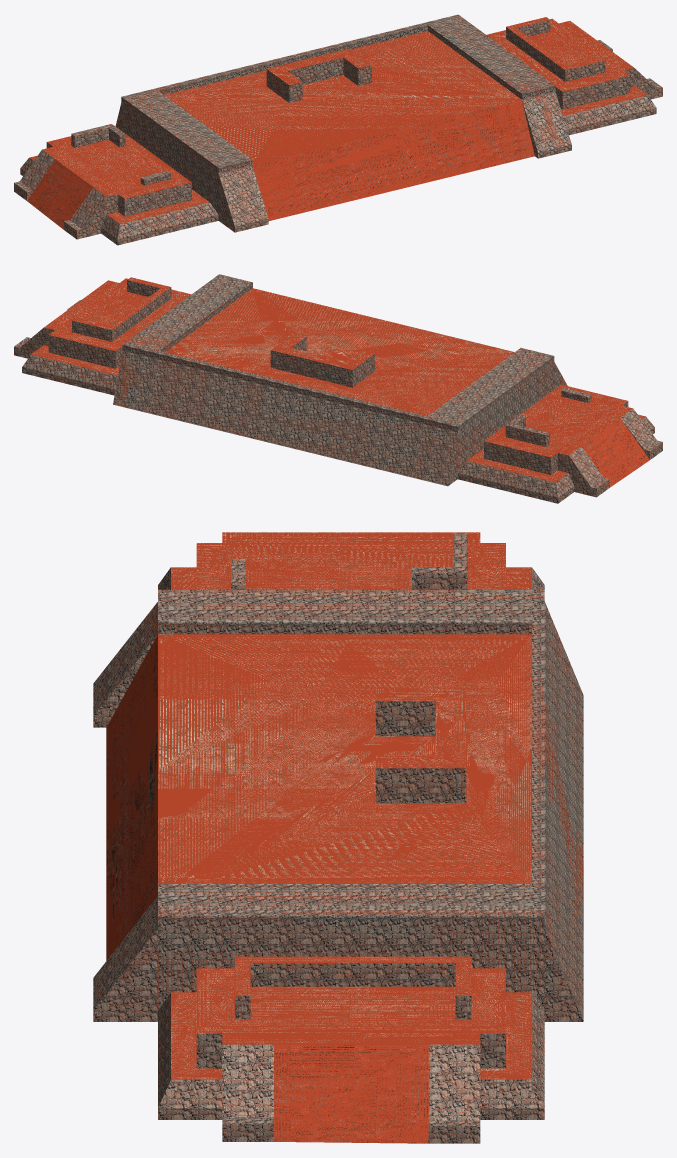
Rendered from edificioCentral.obj.
The picture shows the model from 3 angles, top to bottom: view 1: azimuth 30°, elevation 25°; view 2: azimuth 150°, elevation 25°; view 3: azimuth 270°, elevation 25°; orthographic projection. The views are drawn at different scales.
Parts seen in each view (by area): view 1: Mesh1 Model; view 2: Mesh1 Model; view 3: Mesh1 Model.
Part boxes in pixels (x1=…): Mesh1 Model: x1=14, y1=14, x2=662, y2=245; Mesh1 Model: x1=14, y1=274, x2=662, y2=503; Mesh1 Model: x1=93, y1=532, x2=583, y2=1143.
Bounding box in the file's own units: 105 × 11 × 38.
